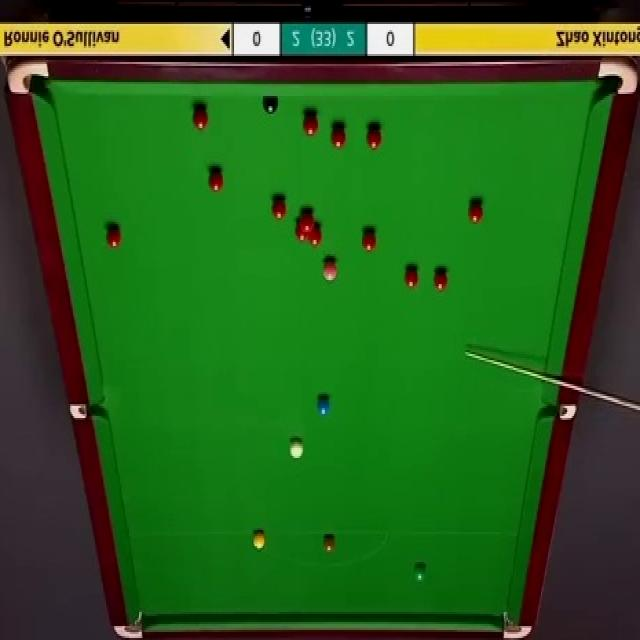black-ball: (262, 95, 279, 114)
blue-ball: (316, 395, 330, 420)
brown-ball: (323, 534, 335, 552)
green-ball: (412, 562, 427, 582)
pink-ball: (323, 258, 338, 286)
red-ball: (403, 262, 420, 291), (106, 223, 123, 250), (207, 167, 223, 194), (192, 106, 209, 131), (467, 197, 484, 222), (366, 125, 382, 151), (331, 124, 346, 149), (361, 228, 376, 253), (433, 266, 448, 290), (304, 112, 318, 137), (272, 197, 286, 221), (308, 222, 322, 246), (301, 210, 314, 230), (295, 222, 308, 242)
white-ball: (288, 434, 306, 462)
yellow-ball: (252, 531, 265, 551)
